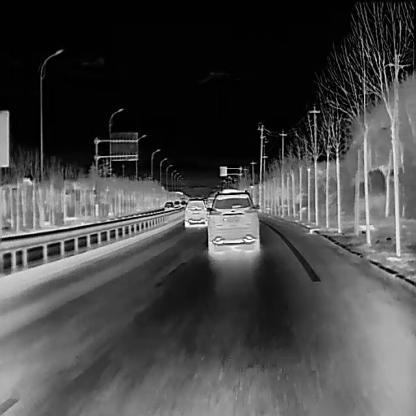car: (206, 188, 259, 258), (183, 197, 207, 227), (162, 199, 173, 212), (173, 199, 180, 211), (180, 198, 186, 207)
